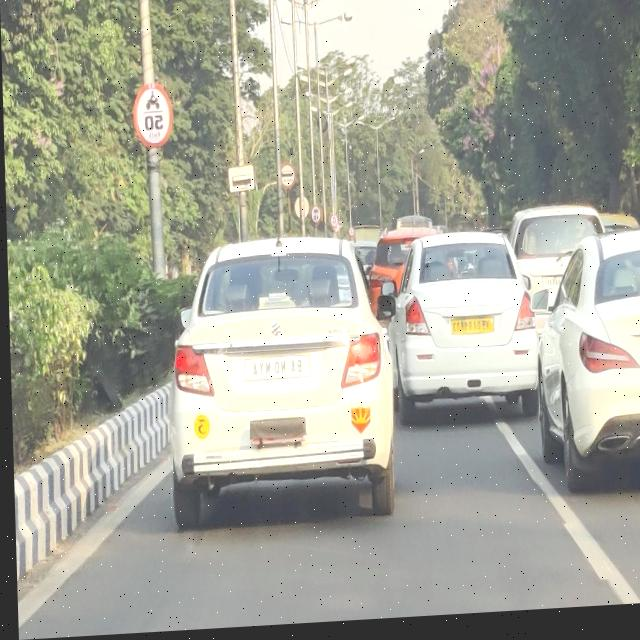plate: (241, 355, 309, 385), (449, 320, 493, 341)
